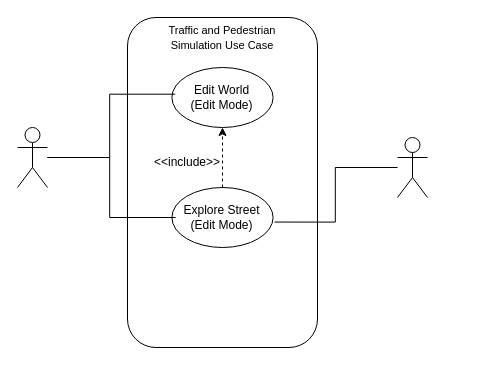
Some shapes in this 479 by 365 pixel diagram are drawn without their labels. Here are the shapes that lost their labels. From the top down, the centre of each, then its label:
At (x=32, y=157): "User".
At (x=412, y=167): "ITS Traffic System".
